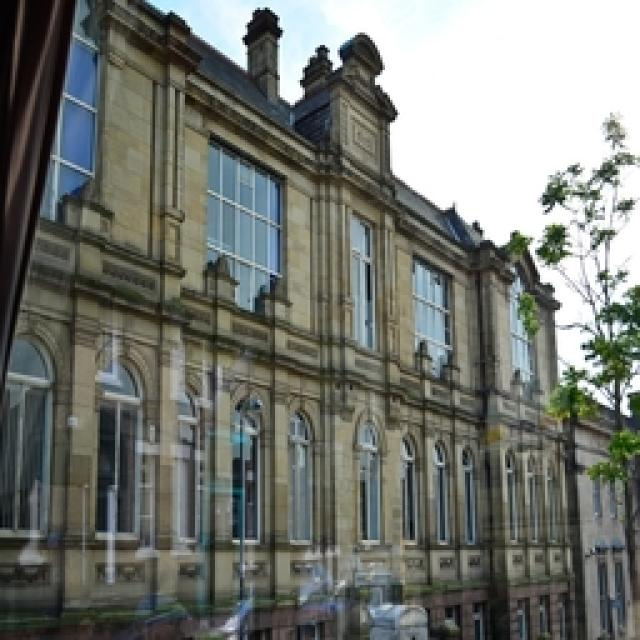Abbey: (232, 21, 452, 640)
